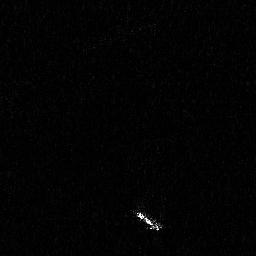ship: (131, 206, 164, 232)
